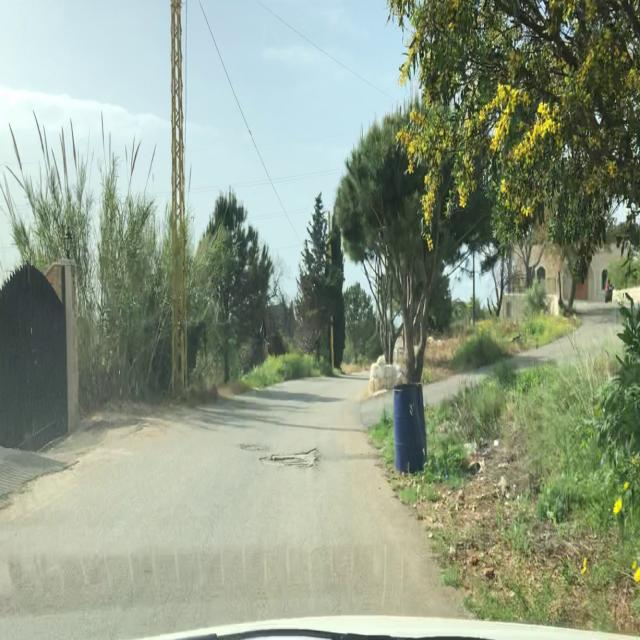Pothole: (256, 446, 320, 472)
